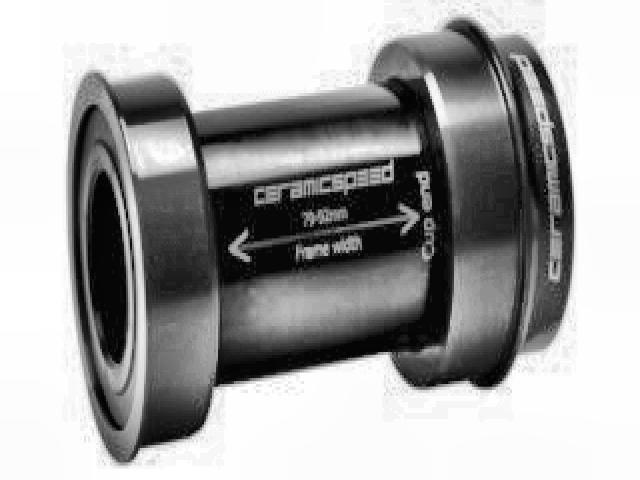bottom_bracket: (62, 12, 576, 463)
